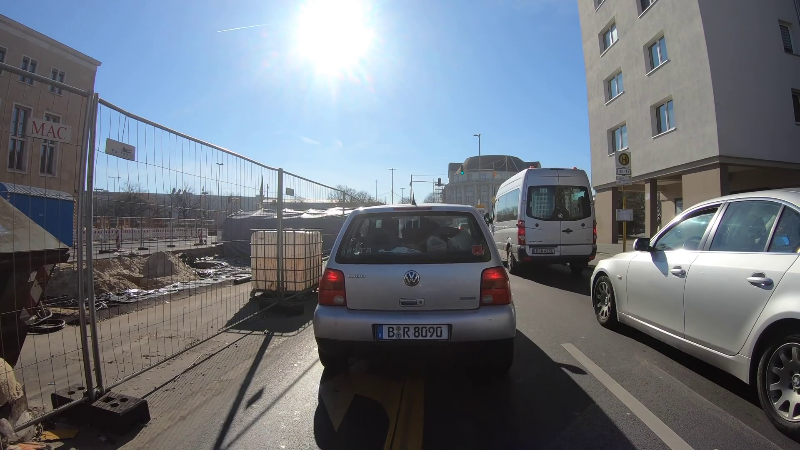Plate: (373, 324, 451, 343), (530, 246, 557, 254)
